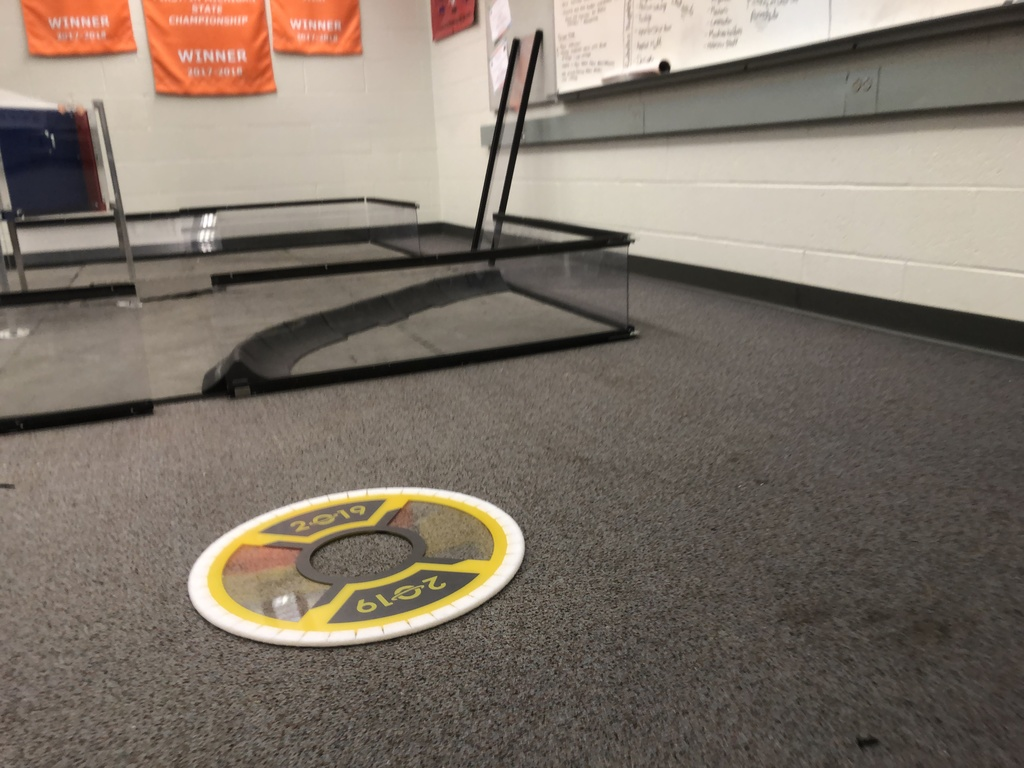hatch_panel: (169, 479, 556, 654)
